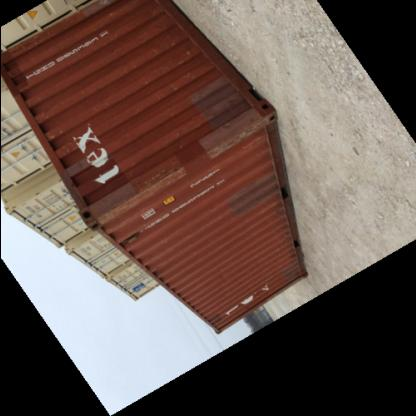Damage: (197, 114, 264, 152), (82, 186, 140, 221), (134, 158, 186, 188), (172, 48, 194, 64)
